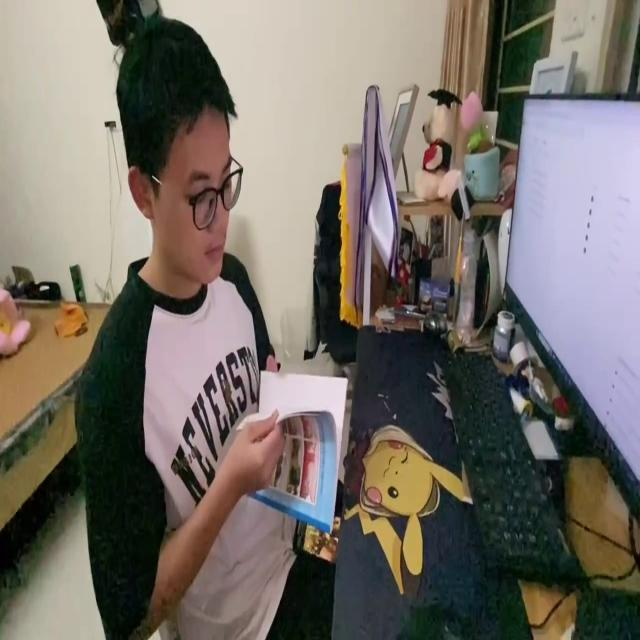book: (238, 363, 349, 540)
laptop: (505, 80, 640, 529)
phone: (290, 507, 342, 569)
student: (74, 10, 338, 640)
